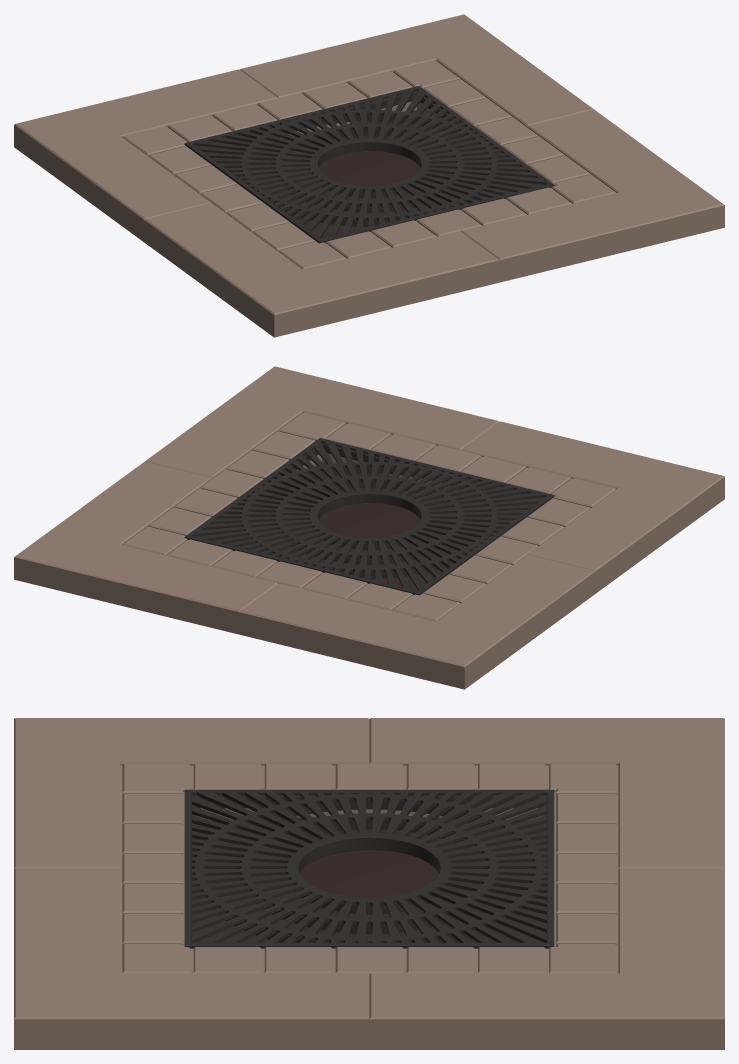
Rendered from tree_grate.glb.
3 renders of one model, top to bottom at view 1: azimuth 30°, elevation 25°; view 2: azimuth 150°, elevation 25°; view 3: azimuth 270°, elevation 25°, orthographic. The views are drawn at different scales.
Parts seen in each view (by area): view 1: Object_5, Object_4, Object_3, Object_2; view 2: Object_5, Object_4, Object_3, Object_2; view 3: Object_5, Object_4, Object_2, Object_3.
Boxes of the visible parts, x1=… form: Object_5: x1=14, y1=14, x2=724, y2=337; Object_4: x1=194, y1=89, x2=545, y2=238; Object_3: x1=184, y1=86, x2=554, y2=243; Object_2: x1=267, y1=110, x2=513, y2=238; Object_5: x1=14, y1=366, x2=724, y2=689; Object_4: x1=193, y1=441, x2=544, y2=590; Object_3: x1=184, y1=438, x2=554, y2=595; Object_2: x1=225, y1=462, x2=471, y2=590; Object_5: x1=14, y1=718, x2=724, y2=1049; Object_4: x1=191, y1=792, x2=547, y2=942; Object_2: x1=195, y1=817, x2=543, y2=942; Object_3: x1=184, y1=789, x2=554, y2=948.
Size of the model in its own units: 20 by 1 by 20.
